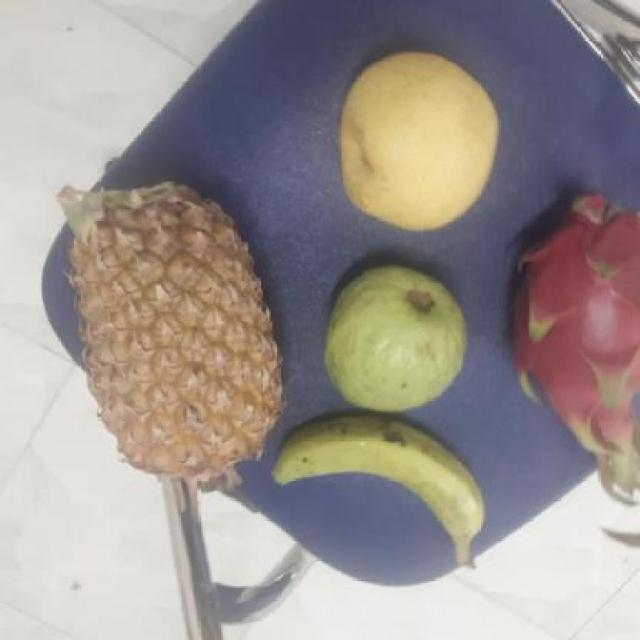banana: (272, 414, 483, 551)
dragon fruit: (497, 183, 640, 449)
guava: (318, 265, 467, 407)
pear: (326, 53, 499, 236)
pineapple: (66, 182, 280, 467)
